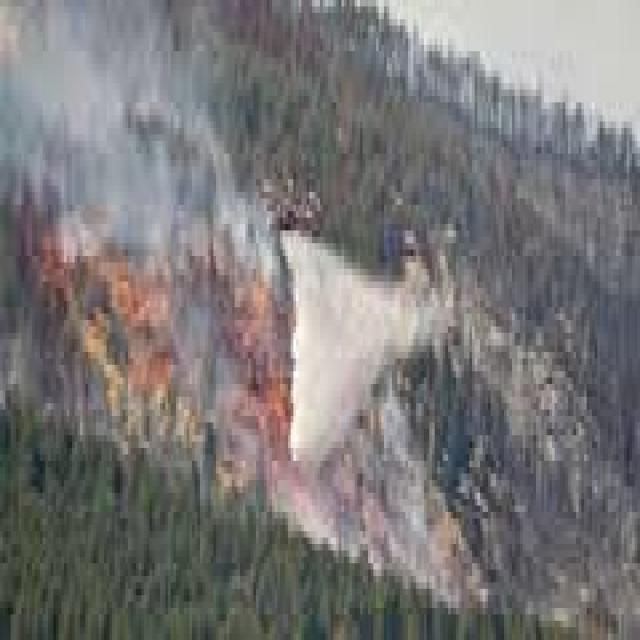Smoke: (0, 4, 279, 477), (273, 234, 423, 548)
